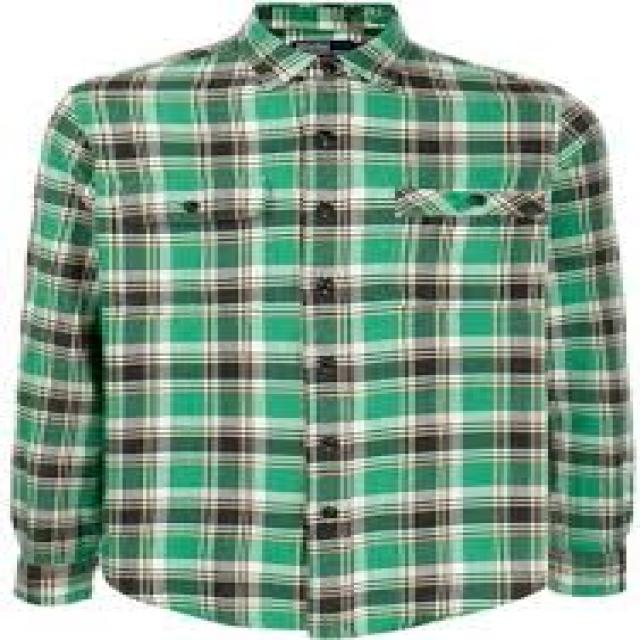plaid: (8, 4, 627, 626)
